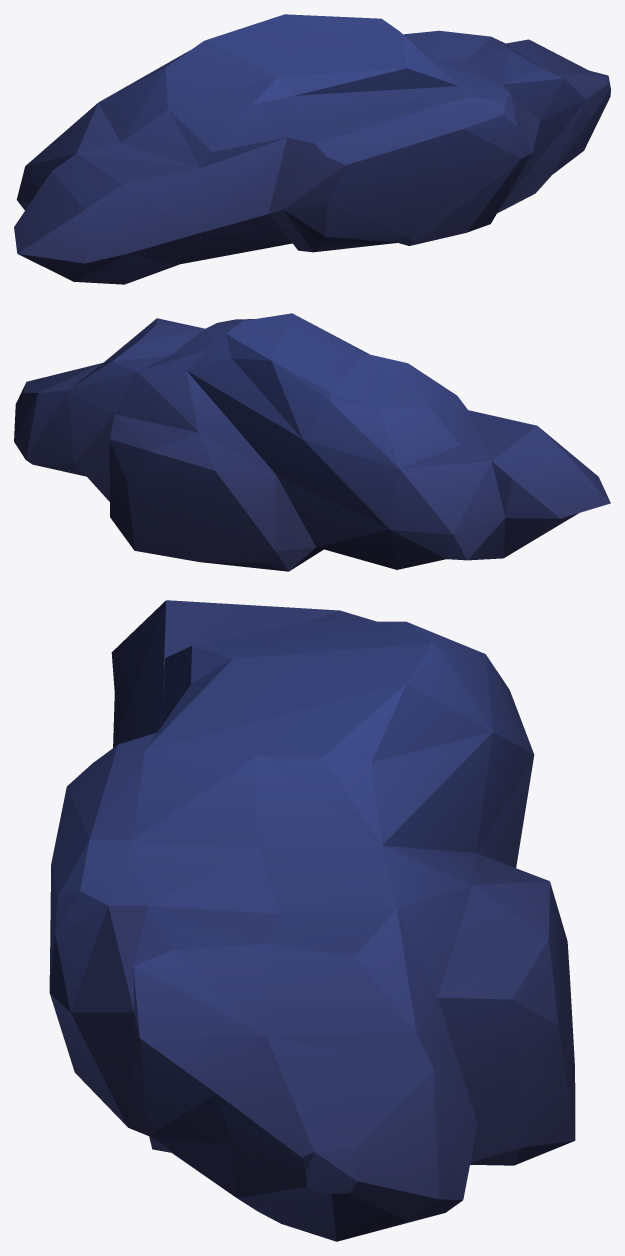
The model's file is singleRock.fbx.
The picture shows the model from 3 angles, top to bottom: view 1: azimuth 30°, elevation 25°; view 2: azimuth 150°, elevation 25°; view 3: azimuth 270°, elevation 25°; orthographic projection. The views are drawn at different scales.
Parts seen in each view (by area): view 1: singleRock; view 2: singleRock; view 3: singleRock.
Boxes of the visible parts, x1,y1,x2,y2 form: singleRock: (14,14,610,284); singleRock: (14,313,610,571); singleRock: (49,600,575,1241).
Bounding box in the file's own units: 510 × 162 × 208.
